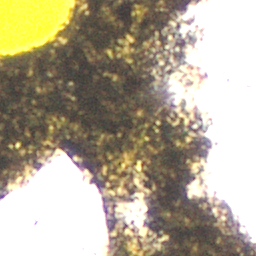air_pores: (0, 0, 76, 57)
cement_matrix: (0, 0, 255, 255), (114, 189, 148, 238)
gravel_crushed_stones: (165, 0, 255, 244), (0, 155, 105, 255), (115, 190, 147, 237)
